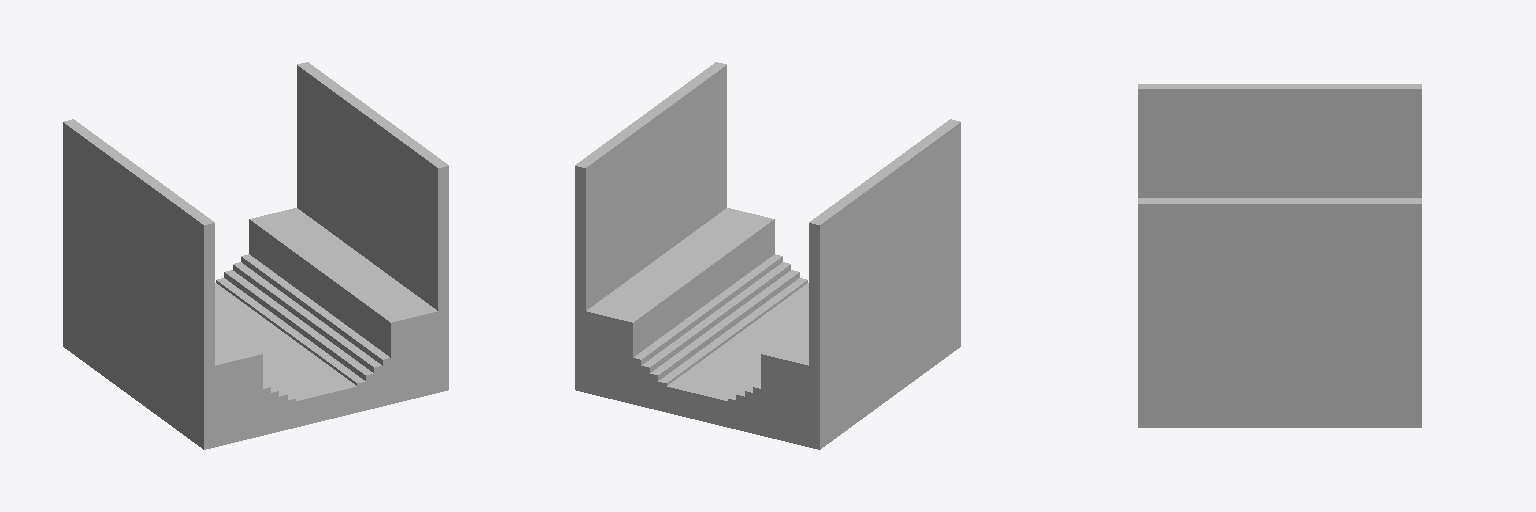
Rendered from straight.obj.
3 views of the same model, side by side, from view 1: azimuth 30°, elevation 25°; view 2: azimuth 150°, elevation 25°; view 3: azimuth 270°, elevation 25° (orthographic).
Visible parts, largest first — view 1: straight; view 2: straight; view 3: straight.
Part boxes in pixels (x1,y1,x2,y2): straight: (63,62,448,449); straight: (575,62,960,449); straight: (1138,84,1421,427).
Bounding box in the file's own units: 88 × 77 × 88.